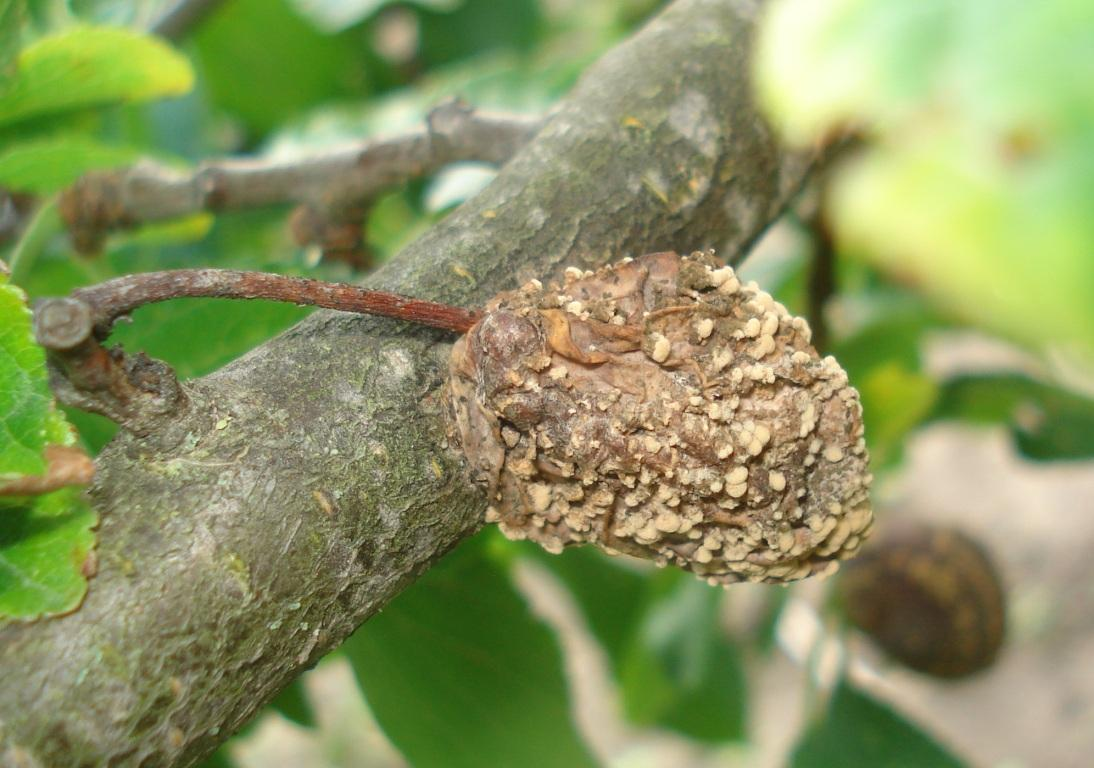mummified_fruits: (450, 251, 872, 584)
